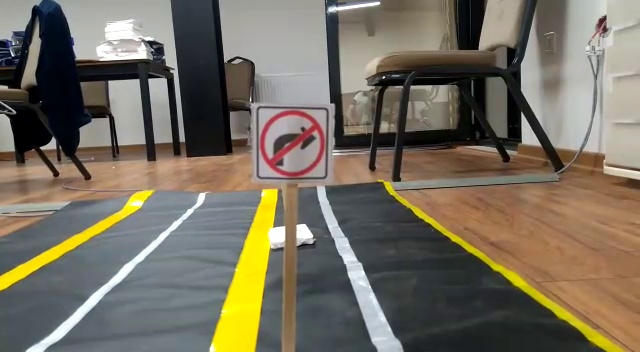sola_donulmez: (256, 106, 327, 179)
